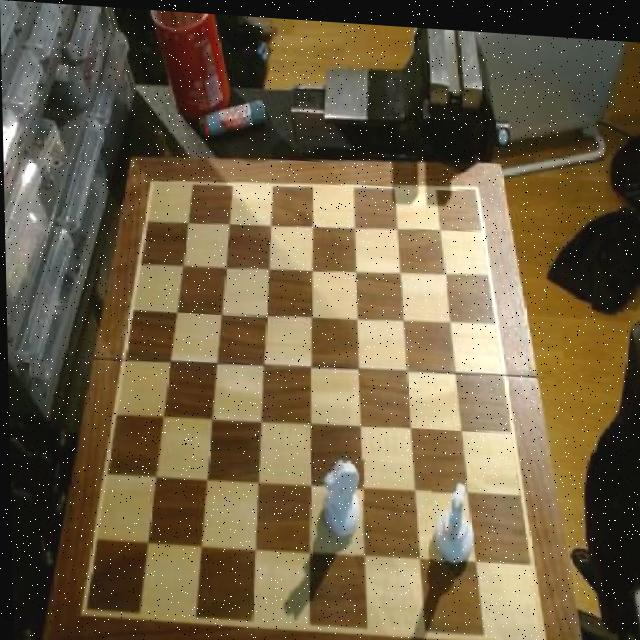white-king: (431, 471, 475, 560), (319, 450, 363, 537)
